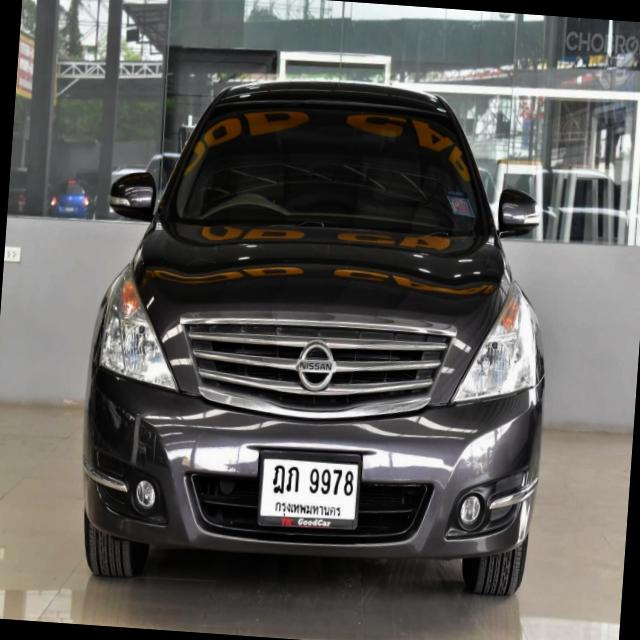license_plate: (249, 434, 368, 546)
